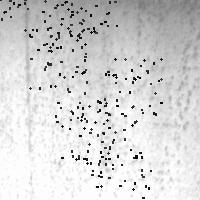pitted_surface: (9, 4, 200, 197), (82, 105, 141, 164), (55, 100, 114, 158), (29, 34, 86, 92), (104, 58, 160, 115), (91, 152, 150, 200), (41, 0, 95, 38), (59, 0, 118, 33), (0, 0, 49, 29)
